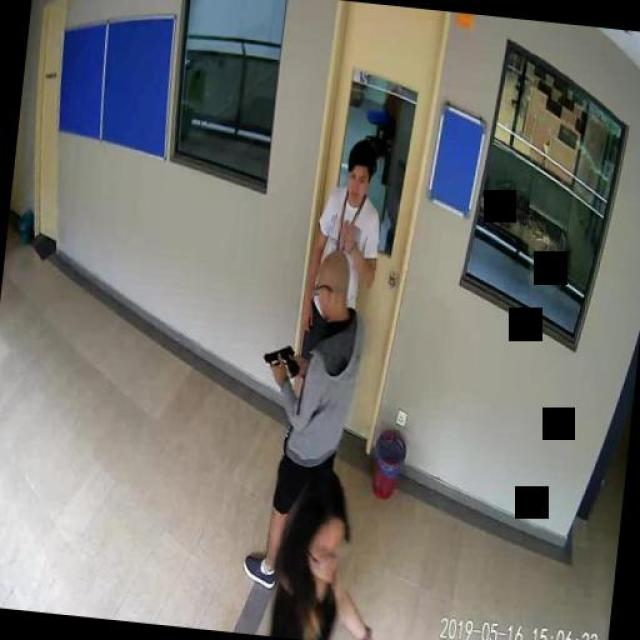gun: (260, 342, 300, 378)
